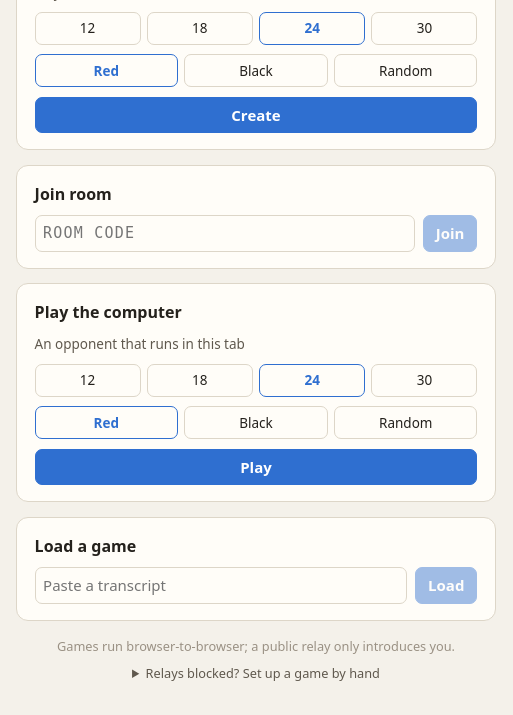
the home screen › explains a transcript it cannot read instead of loading it
(page scrolled)
Type "24 F6 castle" into the field named "Game transcript". click: (221, 586)
box: [35,567,407,604]
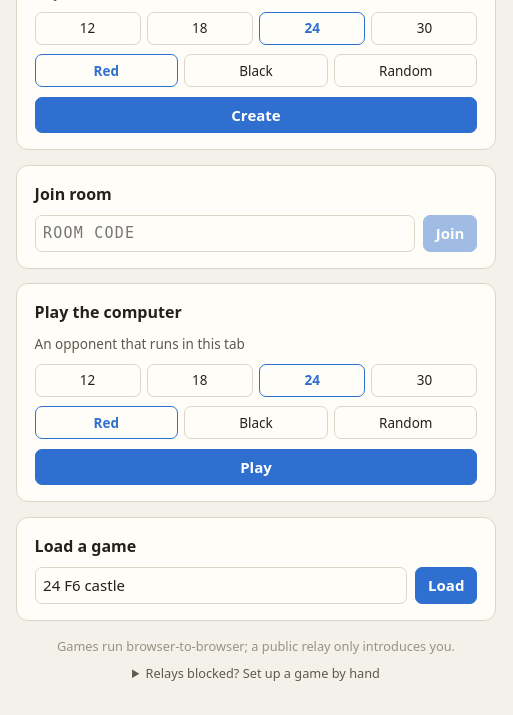
Click the button "Load". click: (446, 586)
box: [415,567,477,604]
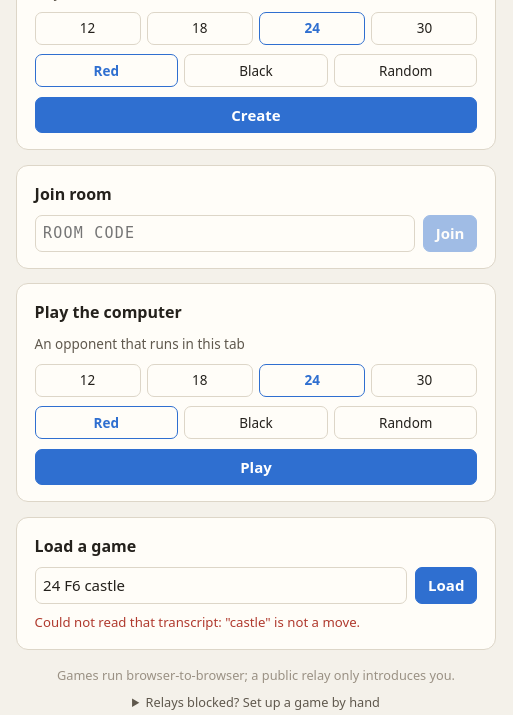
Now the message "Could not read that transcript: \"castle\" is not a move." is shown, box [35,614,360,633]
